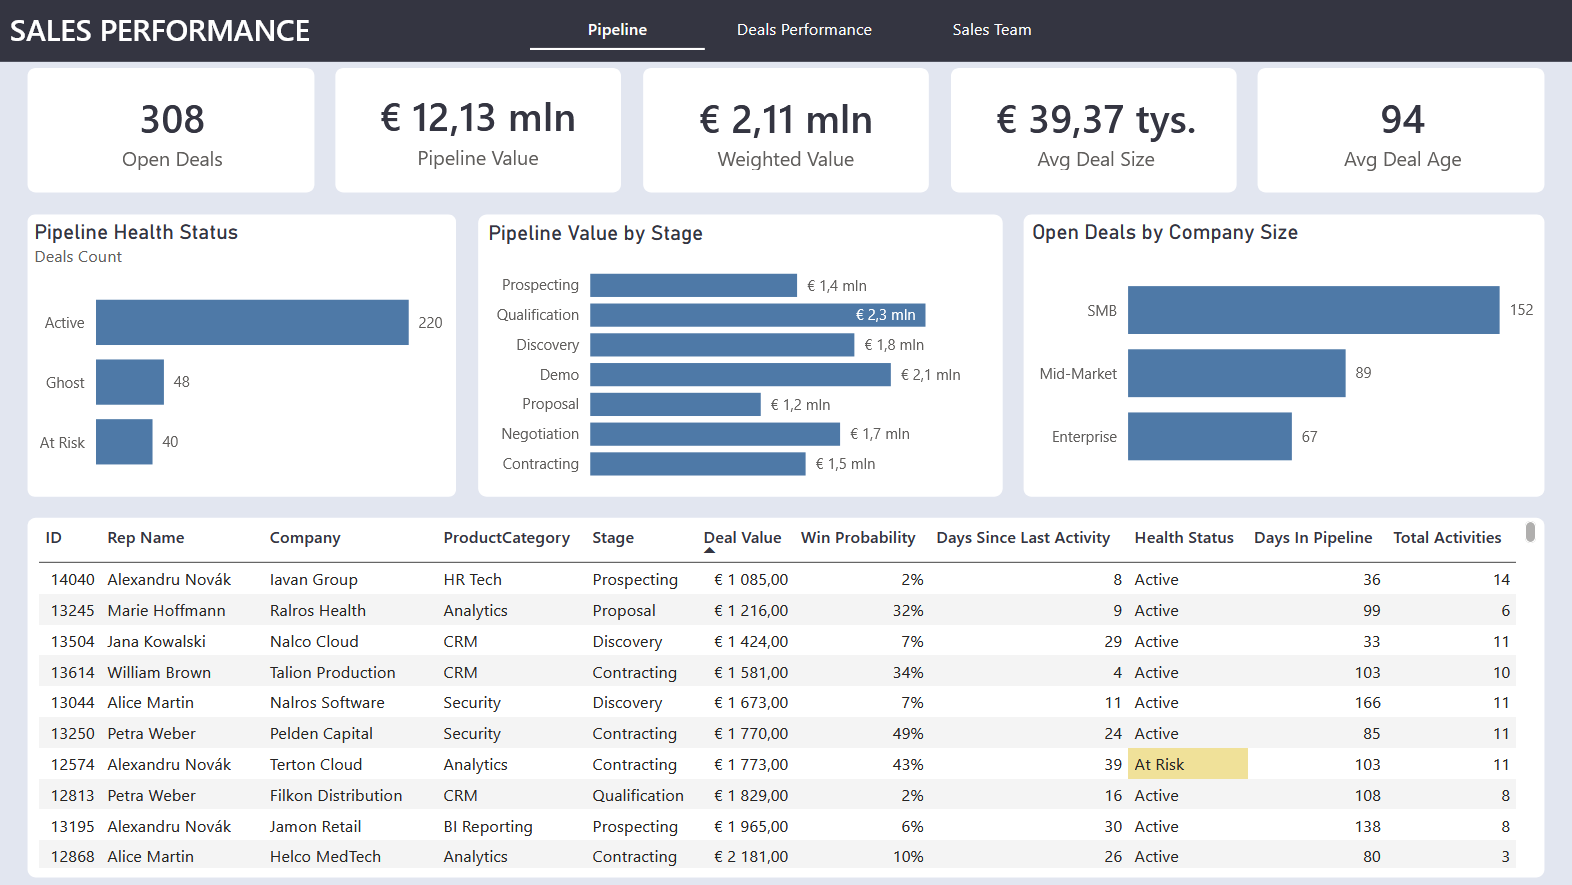

The page's visual inventory and layout, read from the dashboard file:
{"tool":"powerbi","page":{"name":"Pipeline","canvas":[1280,720],"ordinal":0},"visuals":[{"type":"cardVisual","title":"Open Deals","fields":{"Data":["_Measures.Open Deals Count"]},"box":[24.3,52.5,234.4,105],"z":0},{"type":"cardVisual","fields":{"Data":["_Measures.Pipeline Revenue"]},"box":[274.3,54.5,230.5,100.2],"z":1000},{"type":"cardVisual","fields":{"Data":["_Measures.AVG Open Deal Size"]},"box":[773.3,53.5,235.4,103.1],"z":2000},{"type":"tableEx","fields":{"Values":["v_DealsEnriched.DealID","DimSalesRep.RepName","DimCompany.CompanyName","v_DealsEnriched.ProductCategory","v_DealsEnriched.StageName","v_DealsEnriched.DealValueEUR","v_DealsEnriched.AdjustedWinProbability","v_DealsEnriched.DaysSinceLastActivity","v_DealsEnriched.DealHealthStatus","v_DealsEnriched.DaysInPipeline","Sum(v_DealsEnriched.TotalActivities)"]},"box":[27.2,418.2,1225.5,291.8],"z":3000},{"type":"clusteredBarChart","title":"Pipeline Value by Stage","fields":{"Category":["v_DealsEnriched.StageName"],"Y":["Sum(v_DealsEnriched.DealValueEUR)"]},"box":[392.9,174.1,421.2,227.6],"z":4000},{"type":"clusteredBarChart","title":"Open Deals by Company Size","fields":{"Category":["DimCompany.CompanySize"],"Y":["_Measures.Open Deals Count"]},"box":[834.5,173.1,422.1,228.6],"z":5000},{"type":"cardVisual","fields":{"Data":["_Measures.Avg Deal Age Open"]},"box":[1023.2,53.5,233.4,104.1],"z":6000},{"type":"cardVisual","fields":{"Data":["_Measures.Pipeline Weighted Value"]},"box":[524.3,54.5,230.5,101.2],"z":7000},{"type":"clusteredBarChart","title":"Pipeline Health Status","fields":{"Y":["_Measures.Open Deals Count"],"Category":["v_DealsEnriched.DealHealthStatus"]},"box":[24.3,173.1,347.2,230.5],"z":8000},{"type":"pageNavigator","box":[431.9,5.8,446.4,36],"z":9000}]}

Visuals, with their boxes in screenshot pixels (x1, y1, x2, y2), scaled from the page's 1280x720 canvas onto the 1572x885 screenshot:
"Open Deals" cardVisual: bbox=(30, 65, 318, 194)
cardVisual - _Measures.Pipeline Revenue: bbox=(337, 67, 620, 190)
cardVisual - _Measures.AVG Open Deal Size: bbox=(950, 66, 1239, 192)
tableEx - v_DealsEnriched.DealID x DimSalesRep.RepName: bbox=(33, 514, 1538, 873)
"Pipeline Value by Stage" clusteredBarChart: bbox=(483, 214, 1000, 494)
"Open Deals by Company Size" clusteredBarChart: bbox=(1025, 213, 1543, 494)
cardVisual - _Measures.Avg Deal Age Open: bbox=(1257, 66, 1543, 194)
cardVisual - _Measures.Pipeline Weighted Value: bbox=(644, 67, 927, 191)
"Pipeline Health Status" clusteredBarChart: bbox=(30, 213, 456, 496)
pageNavigator: bbox=(530, 7, 1079, 51)
